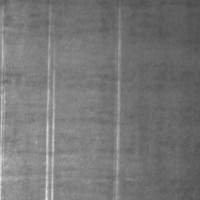scratches: (110, 4, 125, 199), (43, 29, 58, 199)
